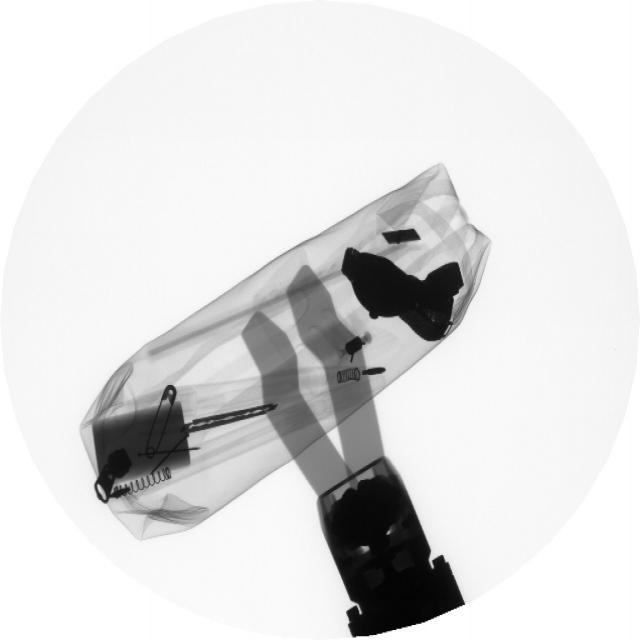BLADE: (177, 394, 284, 442)
